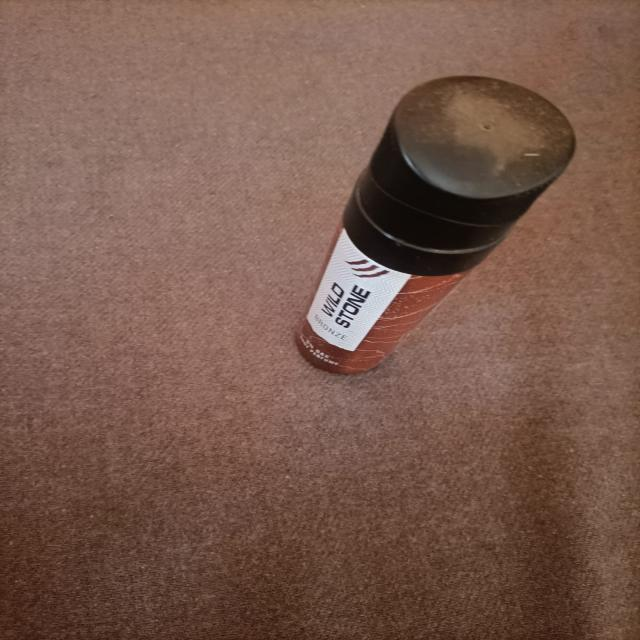spray: (239, 26, 598, 446)
